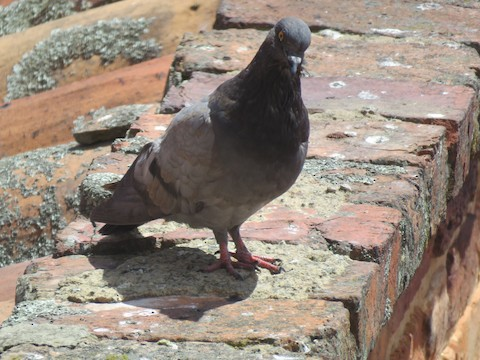pigeon: (71, 16, 320, 282)
